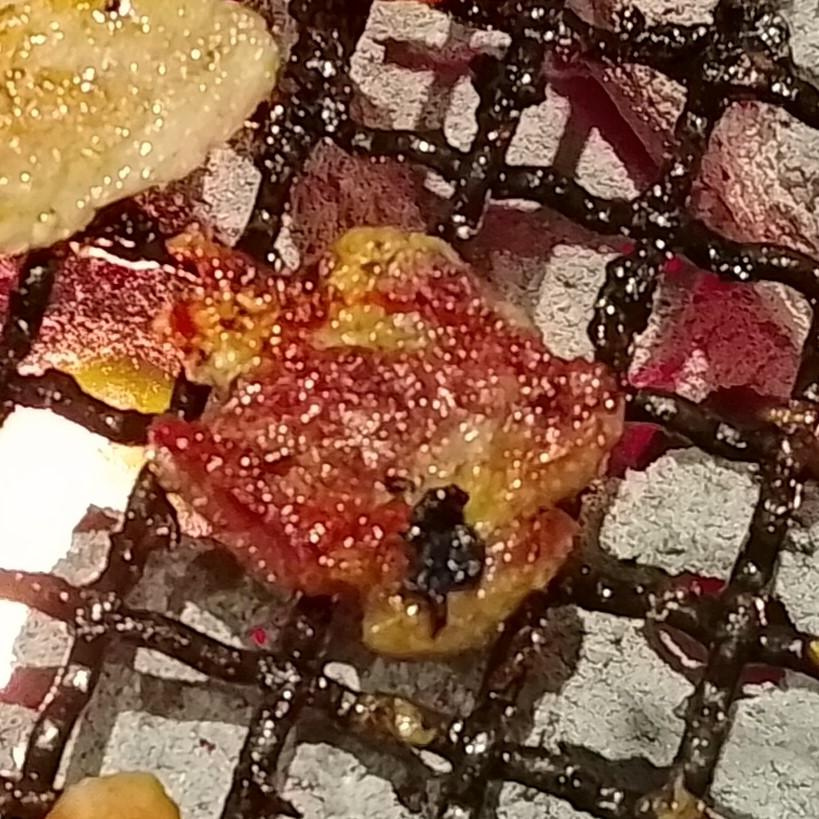Overcooked: (148, 223, 623, 657)
